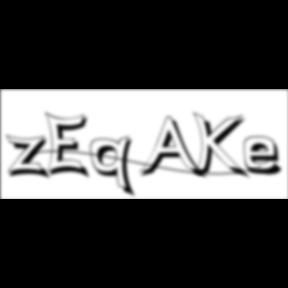A: (139, 116, 208, 182)
E: (46, 110, 94, 182)
K: (194, 110, 252, 182)
e: (244, 135, 288, 178)
q: (91, 135, 140, 200)
z: (6, 134, 54, 182)
